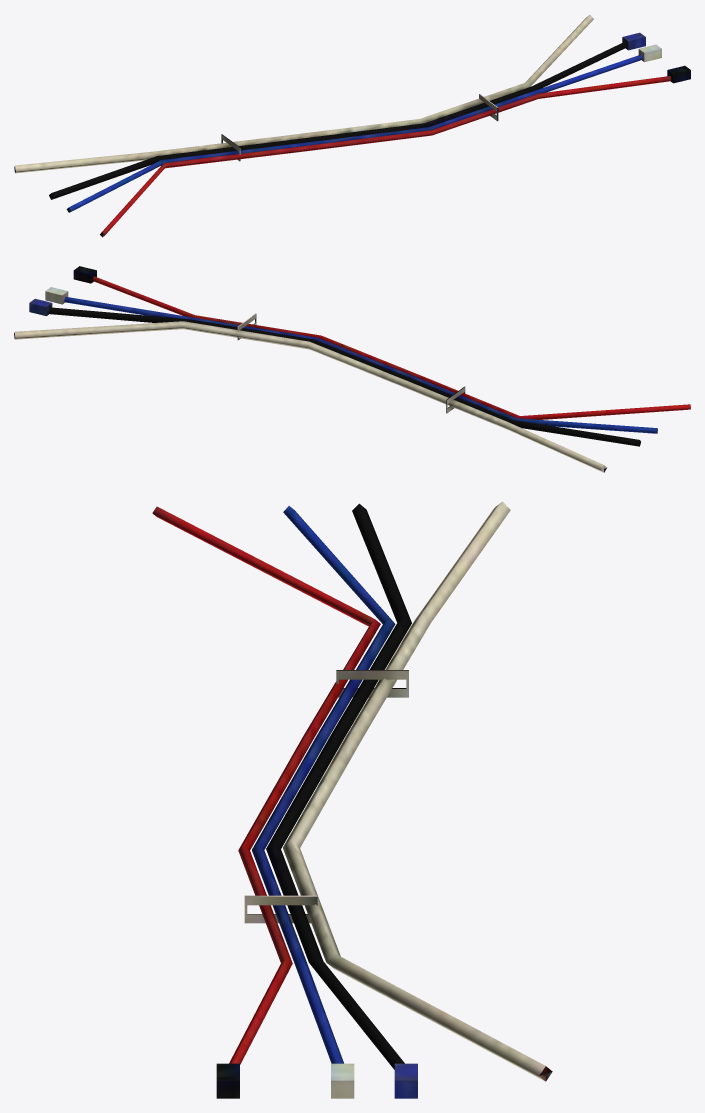
File: cable_bundle_lod1_web.glb
3 views of the same model, one above another, from view 1: azimuth 30°, elevation 25°; view 2: azimuth 150°, elevation 25°; view 3: azimuth 270°, elevation 25° (orthographic). The views are drawn at different scales.
Visible parts, largest first — view 1: CableBundle_Body; view 2: CableBundle_Body; view 3: CableBundle_Body.
Boxes of the visible parts, box(x1,y1,x2,y2) form: CableBundle_Body: box(14, 15, 690, 237); CableBundle_Body: box(14, 266, 690, 472); CableBundle_Body: box(152, 501, 552, 1098).
Size of the model in its own units: 0.8262 by 0.0177 by 0.2397.
Materials: 1 (1 with a texture image).
